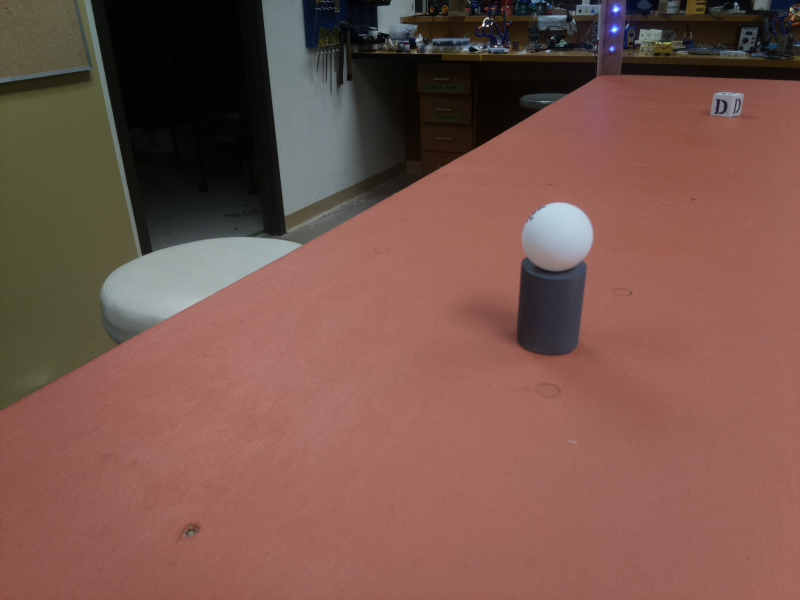blockD: (707, 91, 746, 121)
corner: (595, 1, 631, 79)
obstacle: (517, 201, 595, 363)
